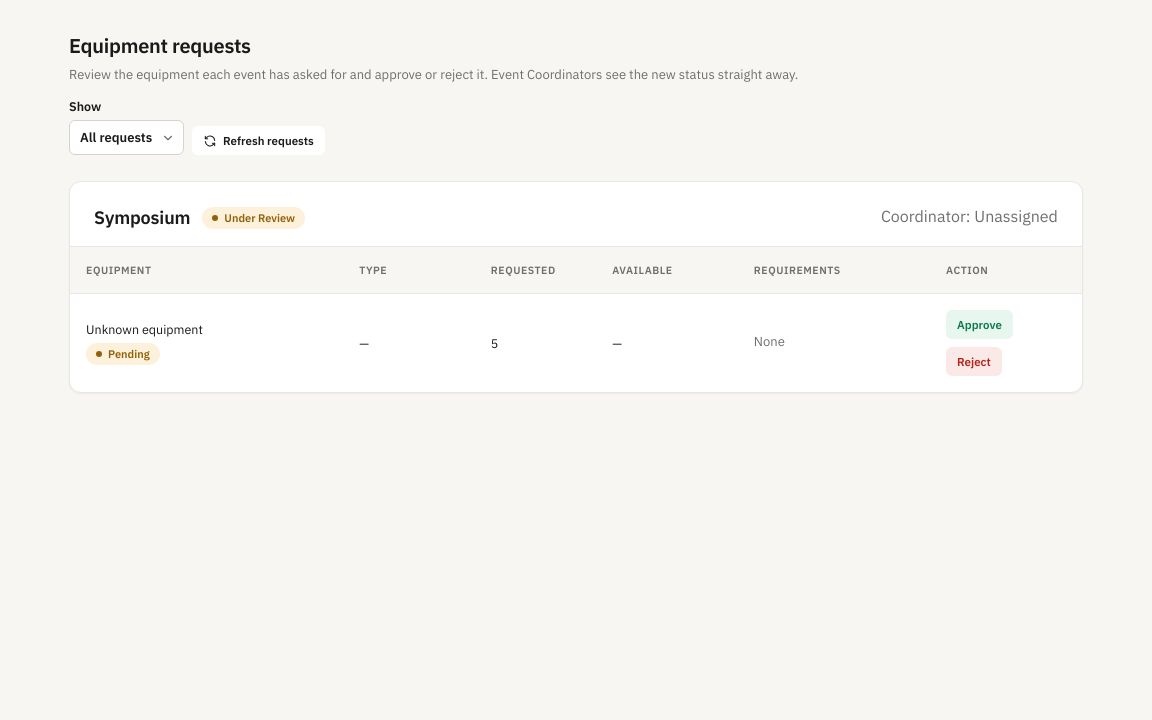
Test case: SCRUM-48 supporting target-view decision boundaries › catalogue-deleted equipment remains safely identifiable for a targeted rejection
expect the text "Unknown equipment" is shown: met, box [86,320,203,336]
Click the button "Reject". click: [974, 361]
box: [946,346,1002,376]
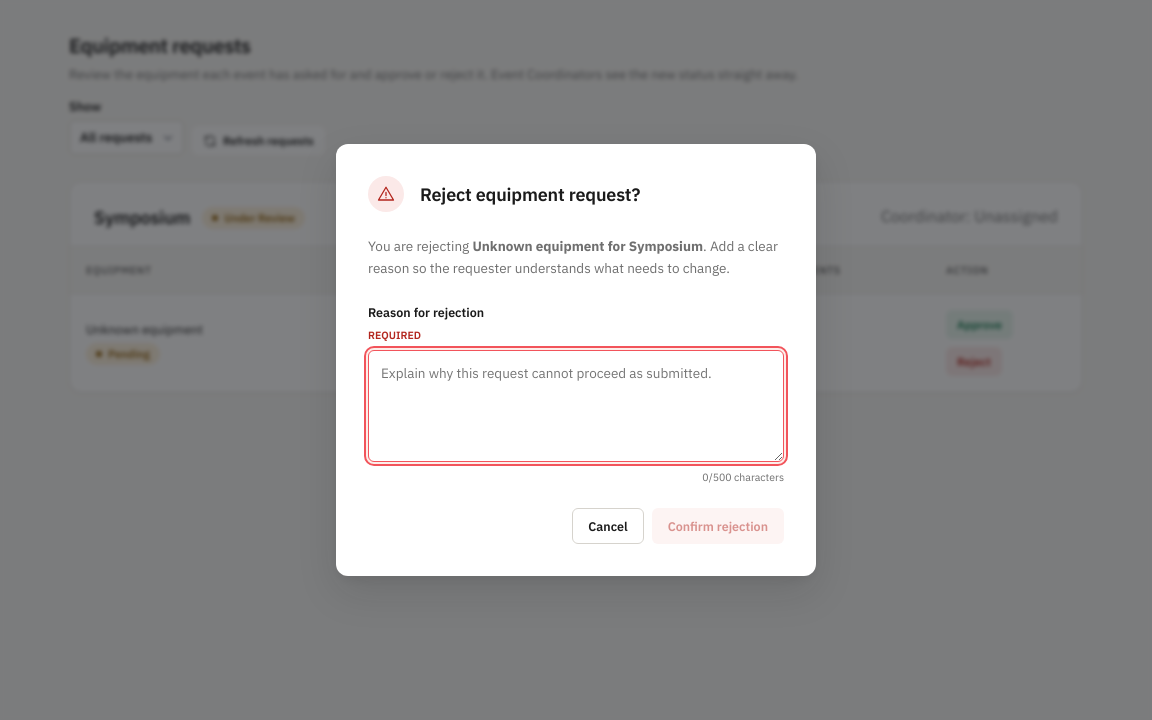
expect the dialog shows "Unknown equipment for Symposium": met, box [472,237,703,255]
expect the button "Confirm rejection" is disabled: met, box [652,508,784,544]
